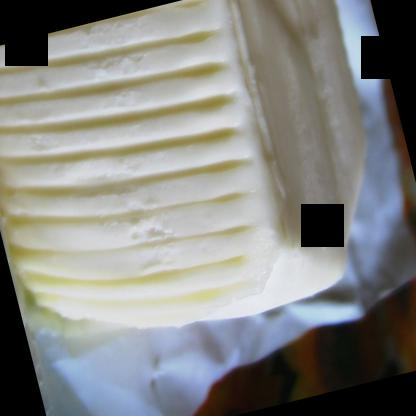butter: (0, 0, 410, 380)
